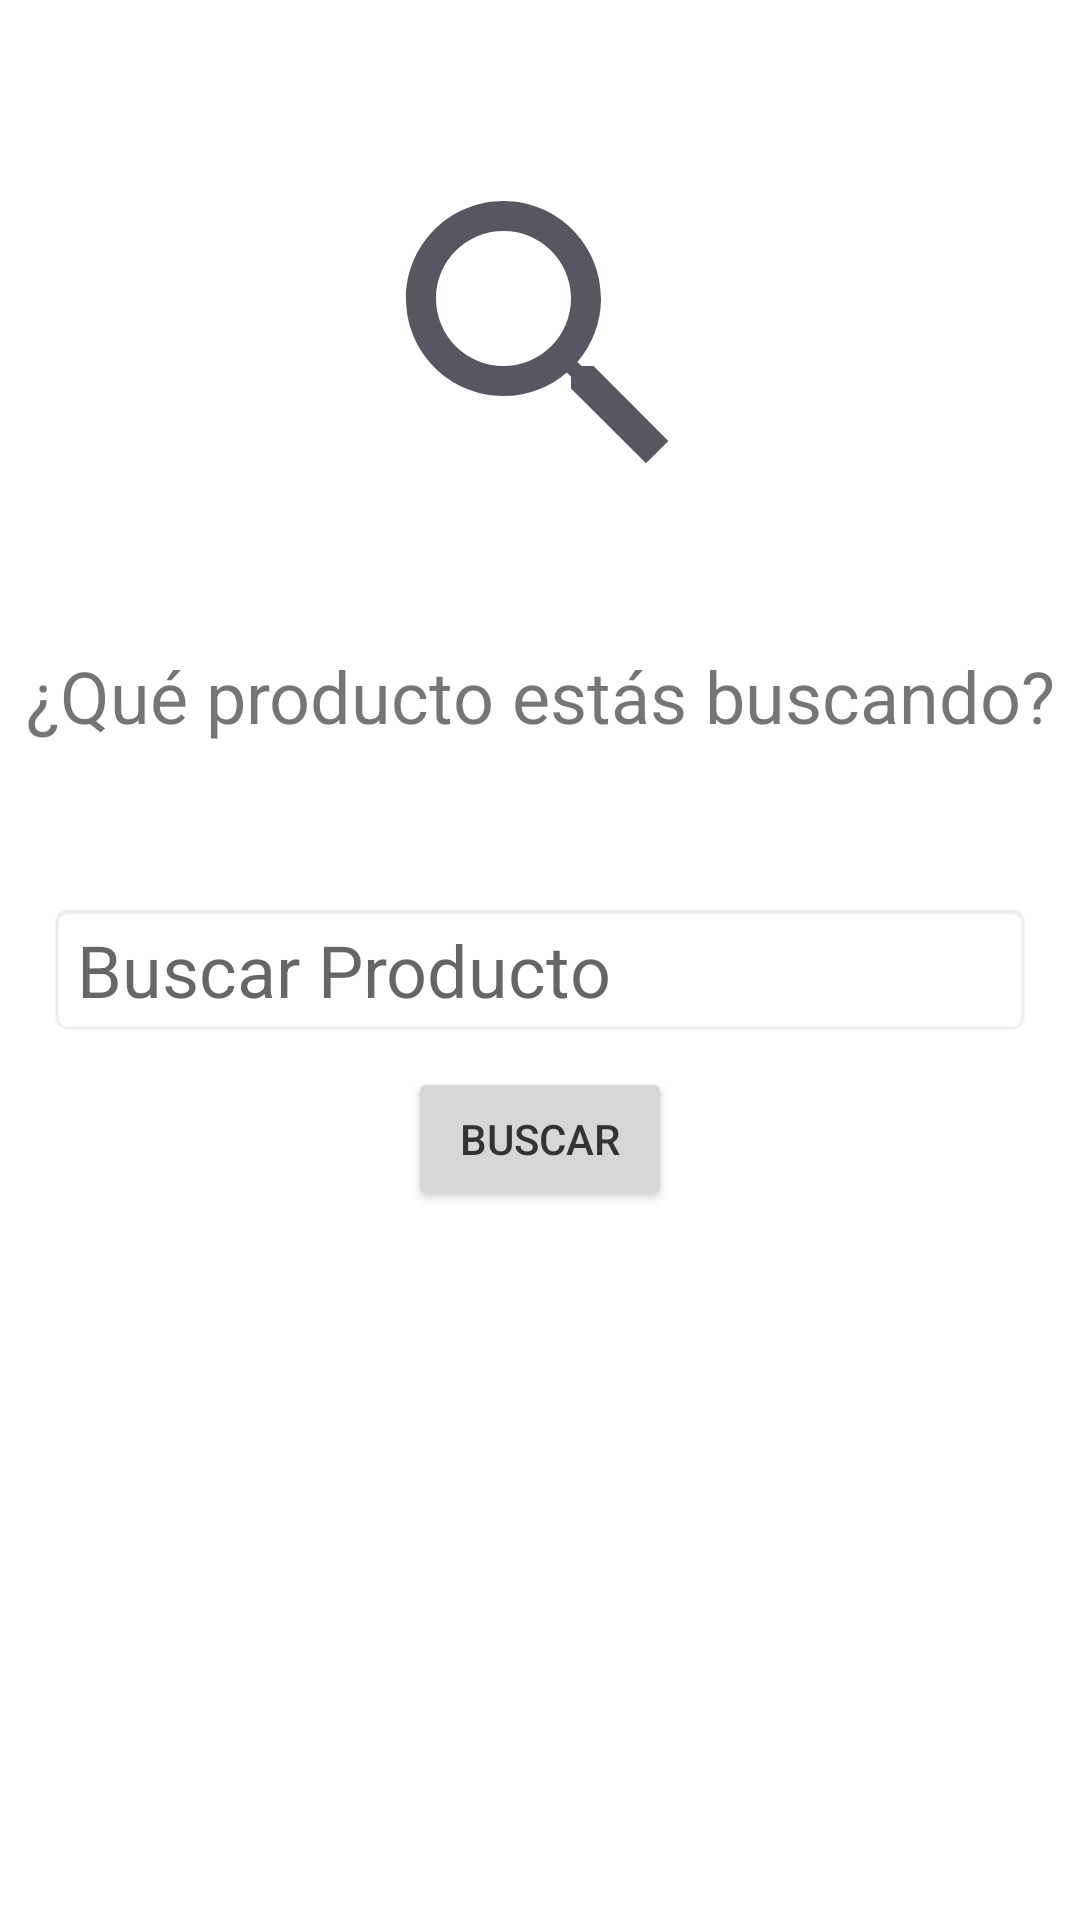

Where icons sit on this 1080 × 1920 app screen, as (x1, y1, x2, y2):
search: (406, 201, 668, 463)
